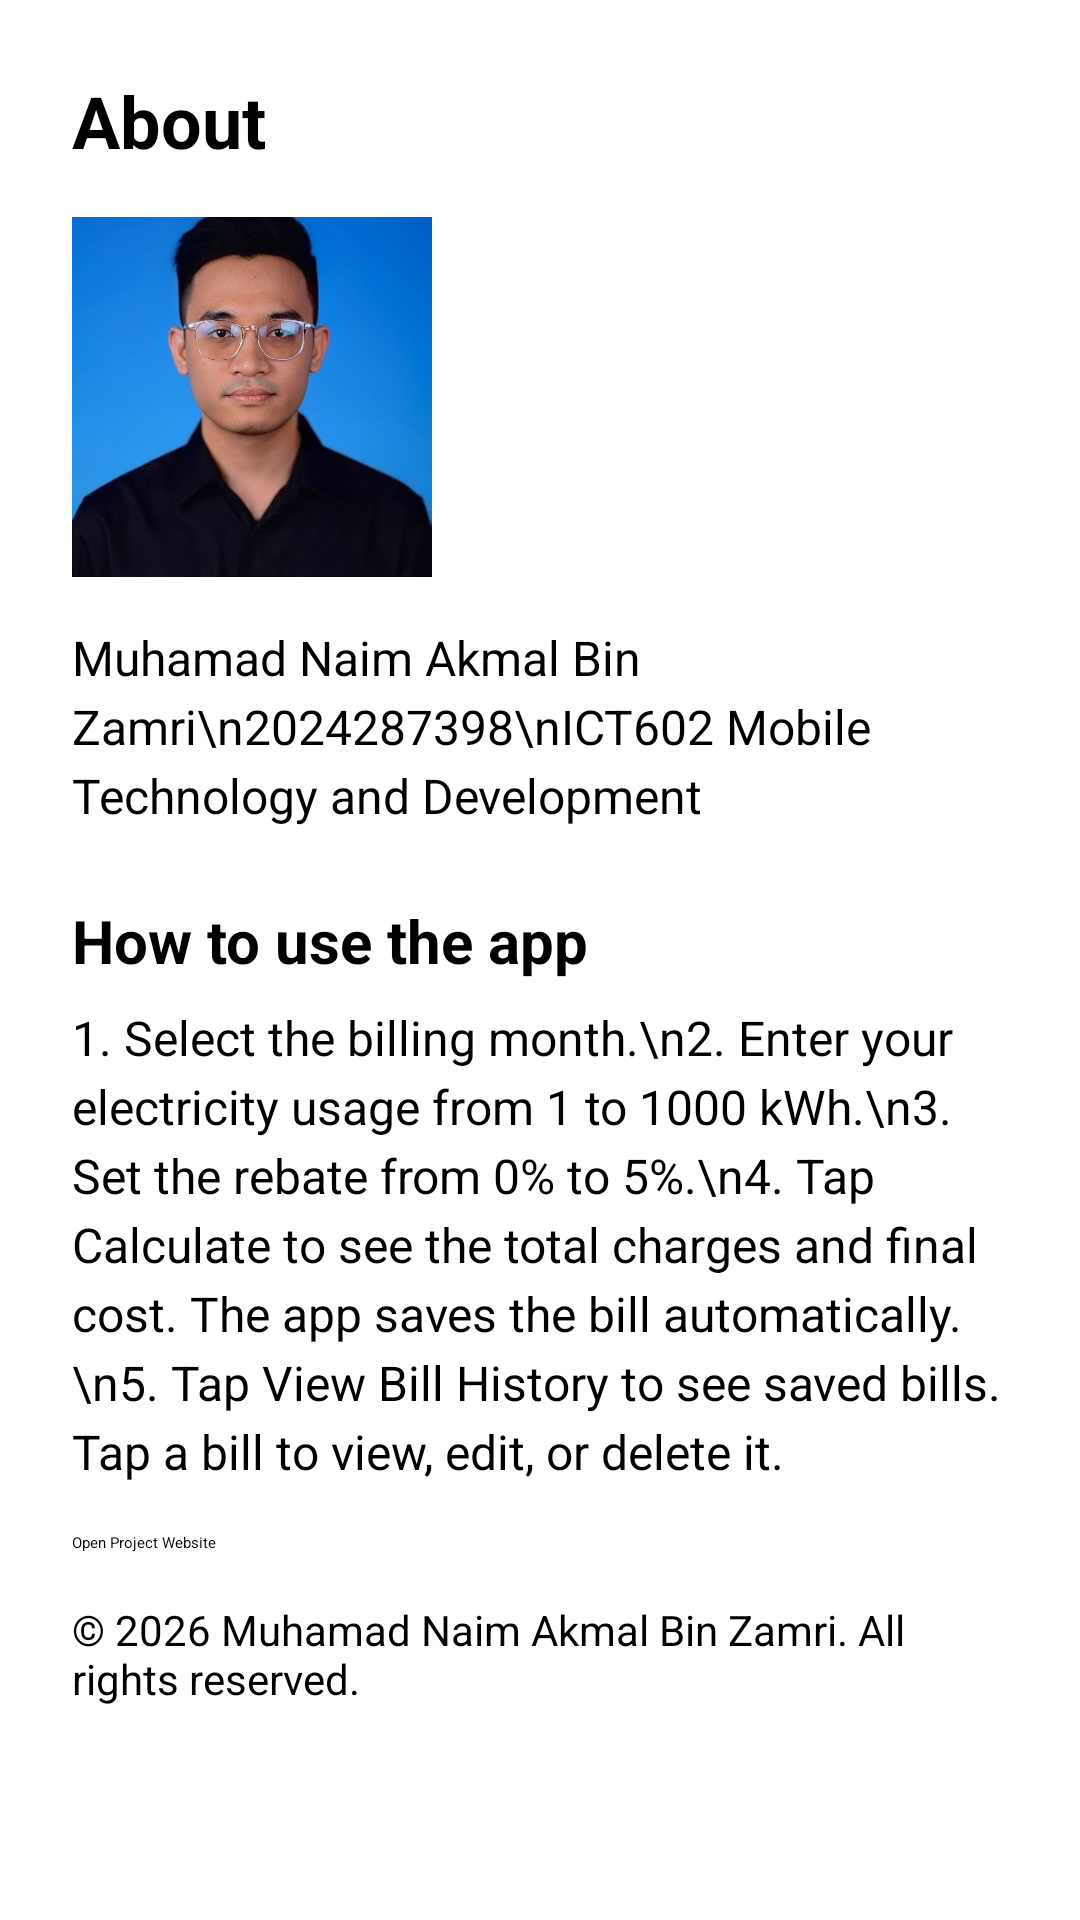

Point at icon controls on the screen. Image size 1080w x 1920h, points as point (x, y).
Student photo: point (252, 397)
